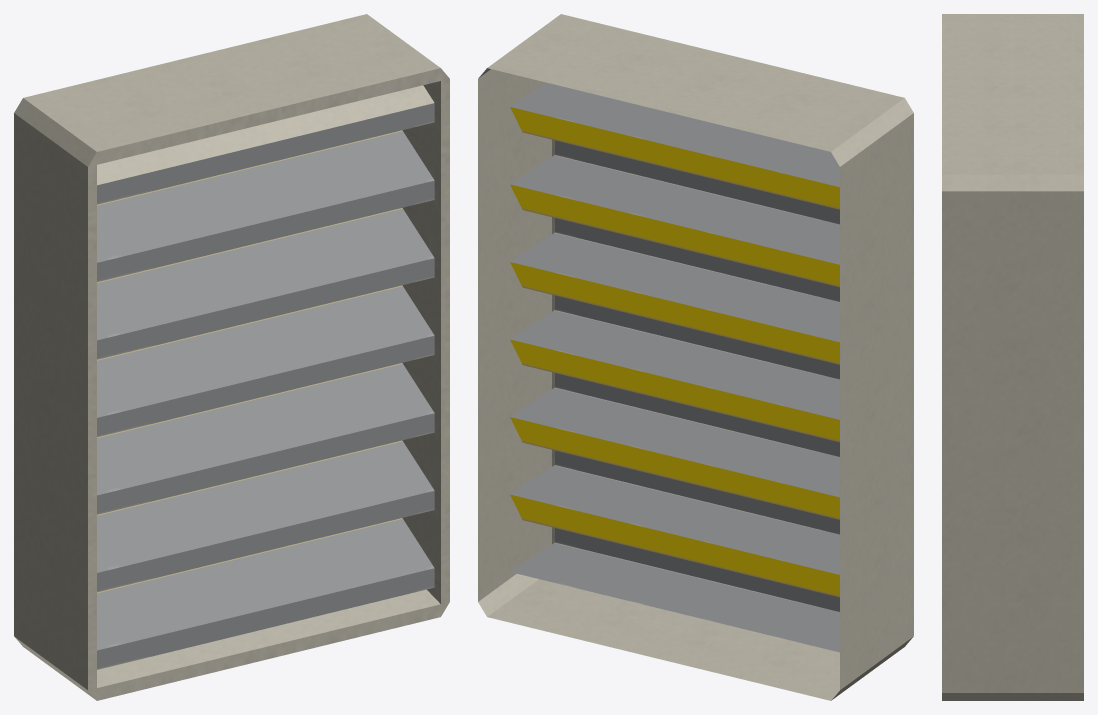
File: Wallrooster_wall4.fbx
3 renders of one model, left to right at view 1: azimuth 30°, elevation 25°; view 2: azimuth 150°, elevation 25°; view 3: azimuth 270°, elevation 25°, orthographic. The views are drawn at different scales.
Parts seen in each view (by area): view 1: rooster_wall4; view 2: rooster_wall4; view 3: rooster_wall4.
Boxes of the visible parts, left/top/right/bottom form: rooster_wall4: left=14, top=14, right=449, bottom=700; rooster_wall4: left=478, top=14, right=913, bottom=700; rooster_wall4: left=942, top=14, right=1083, bottom=700.
Bounding box in the file's own units: 24.35 × 35.29 × 8.61.
